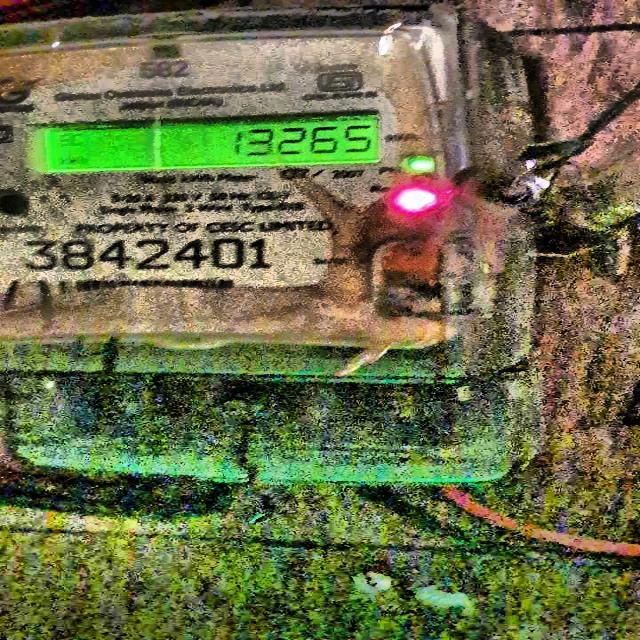Digital: (0, 13, 529, 381)
Reading: (222, 124, 378, 160)
Serial No.: (16, 237, 276, 272)
